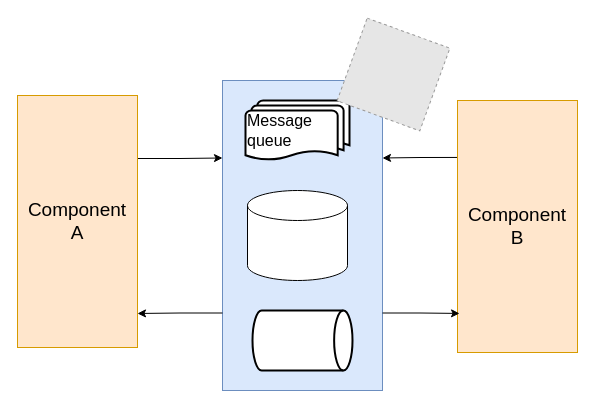
Some shapes in this 595 by 408 pixel diagram are drawn without their labels. Grey dashed boxes stand in for pictures. The centre of each missing label's shape, as x and y in pixels:
"Data stream" belongs at [302,340].
"Database" belongs at [297,235].
